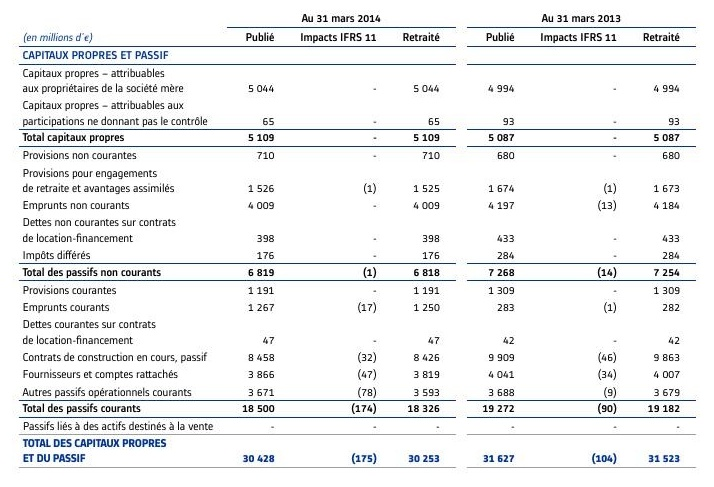table: (0, 0, 714, 487)
